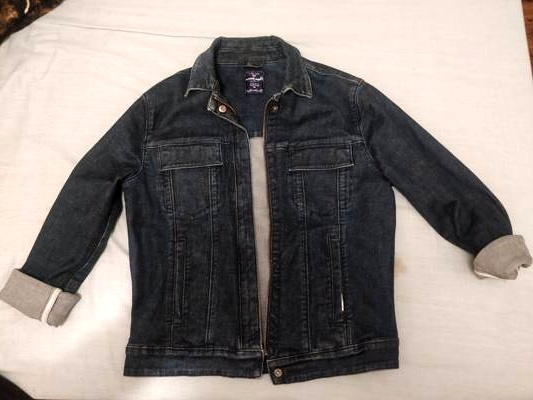Blazer: (0, 47, 522, 386)
